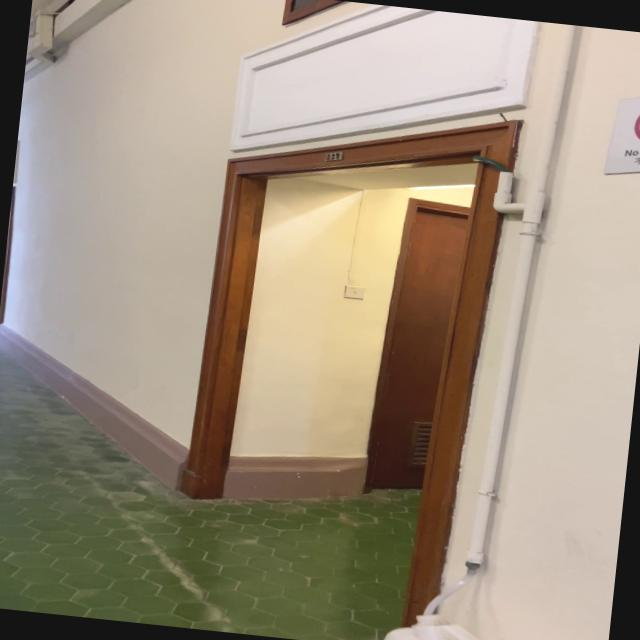room229: (322, 148, 346, 164)
